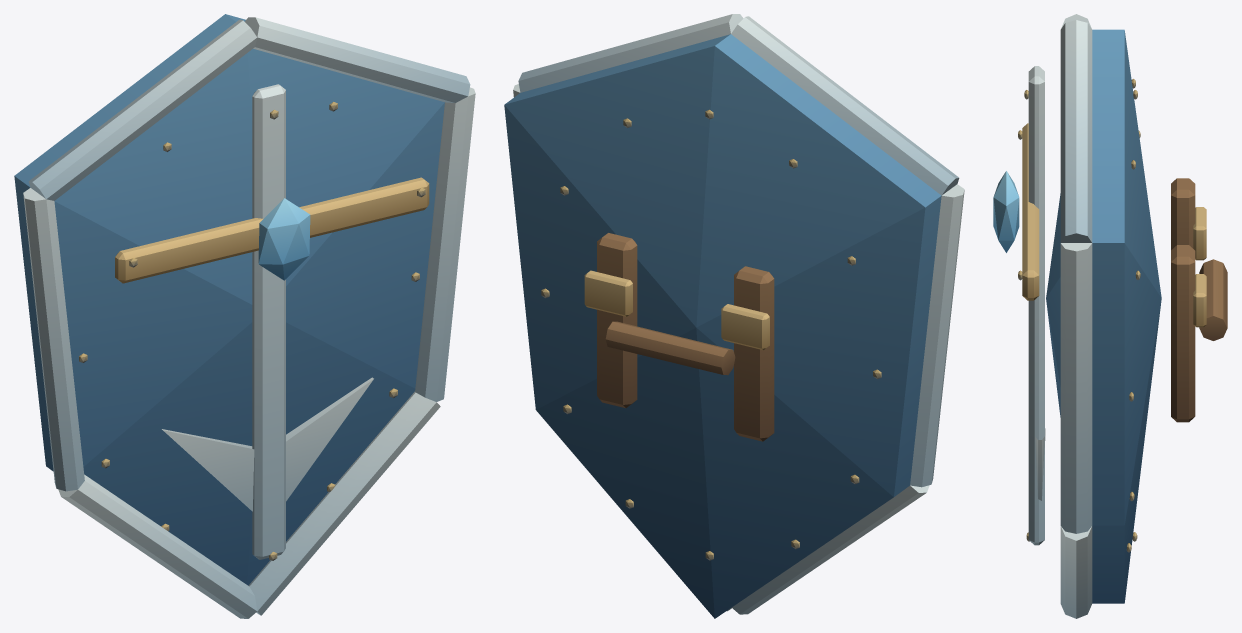
The model's file is escudo_bastion_alba.glb.
The picture shows the model from 3 angles, left to right: view 1: azimuth 30°, elevation 25°; view 2: azimuth 150°, elevation 25°; view 3: azimuth 270°, elevation 25°; orthographic projection.
Visible parts, largest first — view 1: escudo_bastion_alba_finished; view 2: escudo_bastion_alba_finished; view 3: escudo_bastion_alba_finished.
Boxes of the visible parts, x1,y1,x2,y2 form: escudo_bastion_alba_finished: (14,14,475,618); escudo_bastion_alba_finished: (504,14,964,618); escudo_bastion_alba_finished: (993,14,1227,618).
Size of the model in its own units: 0.8517 by 1.08 by 0.3843.
Materials: 2 (2 with a texture image).
